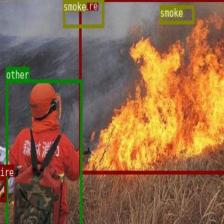fire: (78, 0, 224, 174), (0, 176, 6, 201)
smoke: (62, 0, 103, 27), (159, 5, 194, 23)
